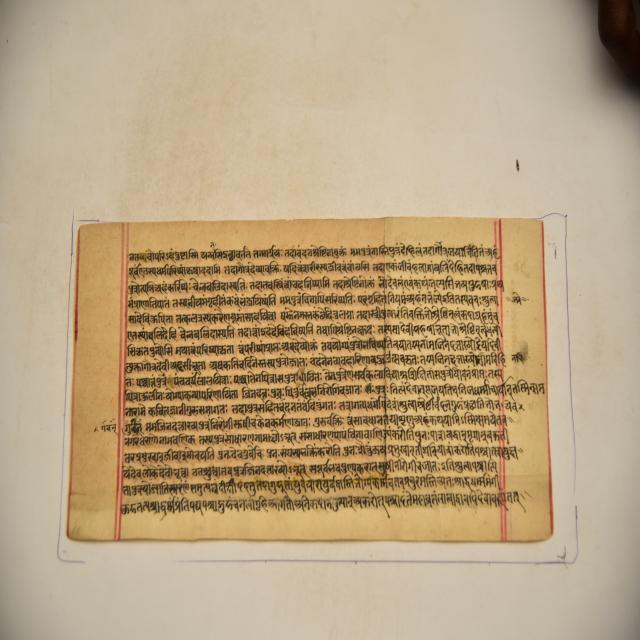text_paragraph: (66, 217, 550, 540)
